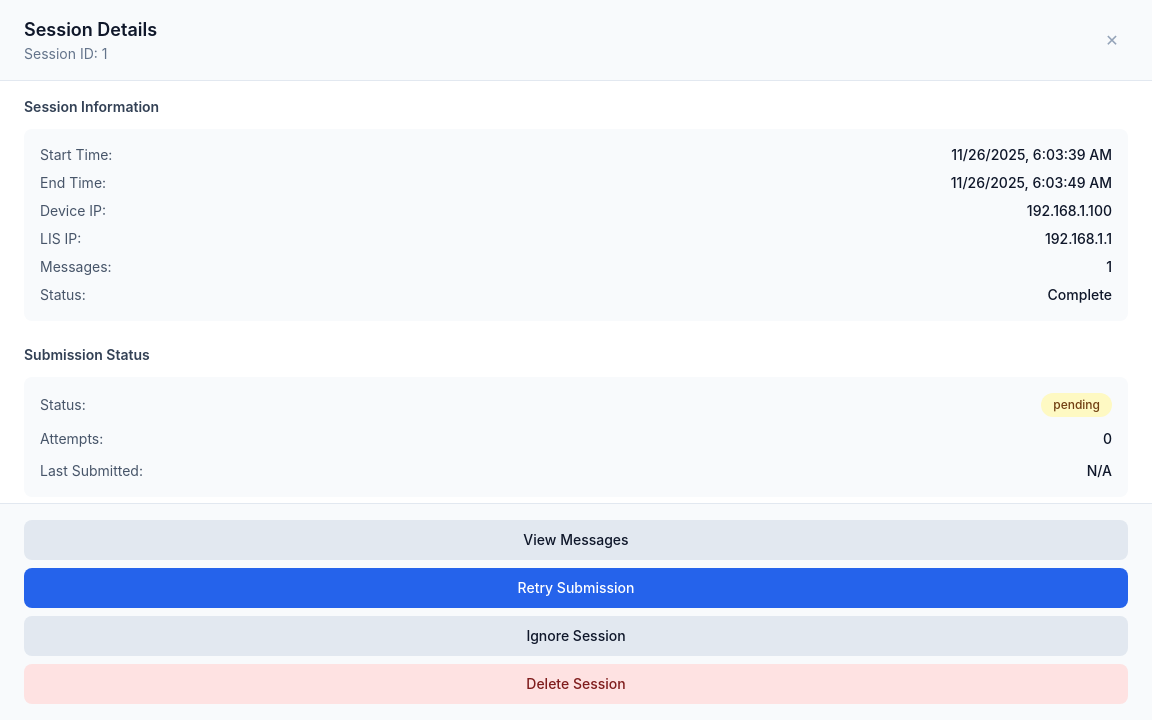
Test case: SessionDetail - Submission Tracking Integration › Delete Workflow Integration › should show confirmation dialog on delete click
Click the button "Delete Session" at (576, 684), box [24, 664, 1128, 704]
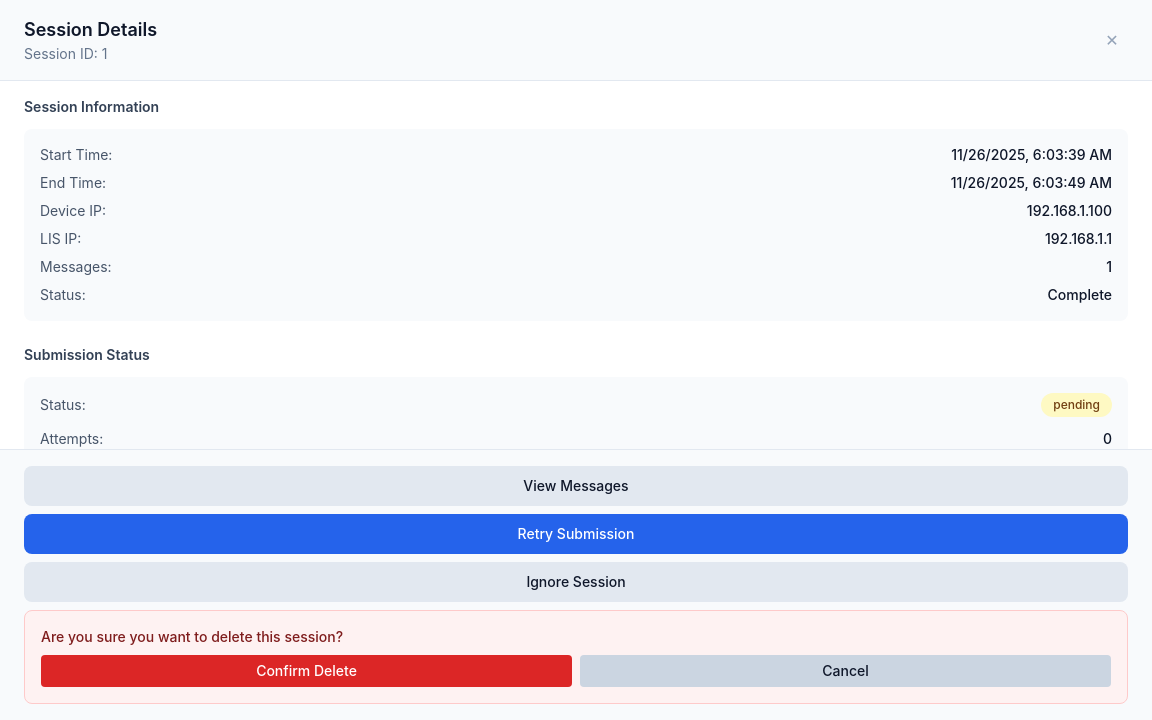
Check: the text "Are you sure you want to delete this session?" is shown, box [41, 628, 343, 645]
